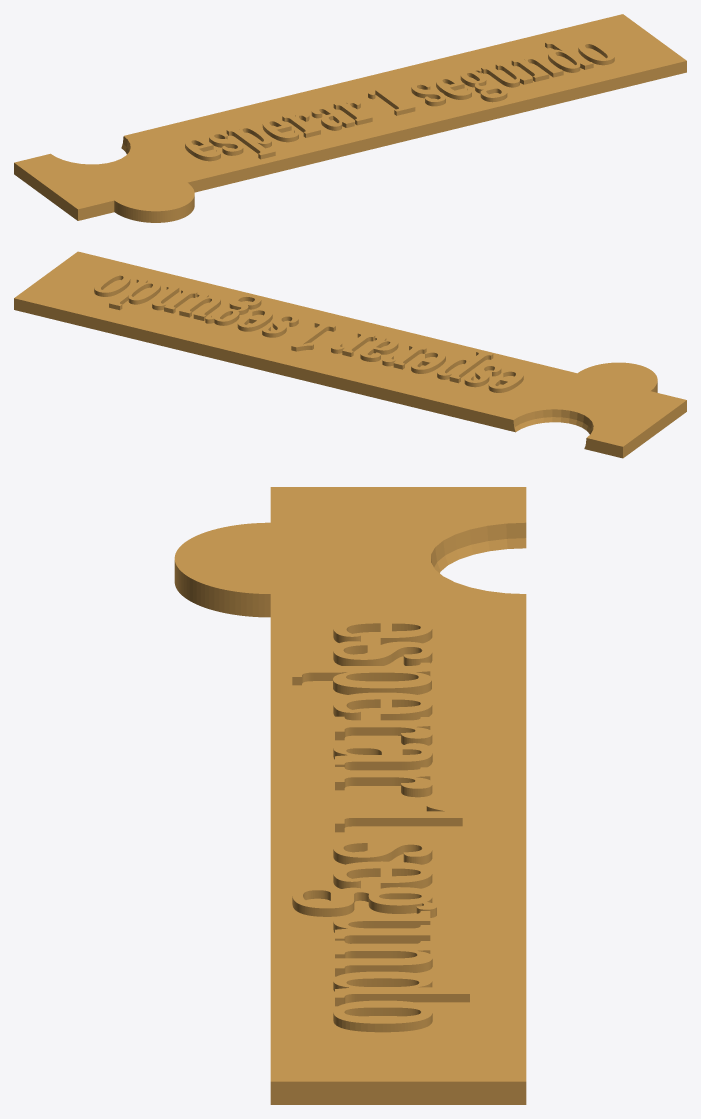
Rendered from Esperar.gltf.
3 renders of one model, top to bottom at view 1: azimuth 30°, elevation 25°; view 2: azimuth 150°, elevation 25°; view 3: azimuth 270°, elevation 25°, orthographic. The views are drawn at different scales.
Visible parts, largest first — view 1: Mesh_Mesh_head_geo.001_lambert2SG.001; view 2: Mesh_Mesh_head_geo.001_lambert2SG.001; view 3: Mesh_Mesh_head_geo.001_lambert2SG.001.
Part boxes in pixels (x1,y1,x2,y2): Mesh_Mesh_head_geo.001_lambert2SG.001: (14, 14, 686, 222); Mesh_Mesh_head_geo.001_lambert2SG.001: (14, 251, 686, 458); Mesh_Mesh_head_geo.001_lambert2SG.001: (174, 487, 526, 1104).
Size of the model in its own units: 0.8 by 0.02 by 0.2.
